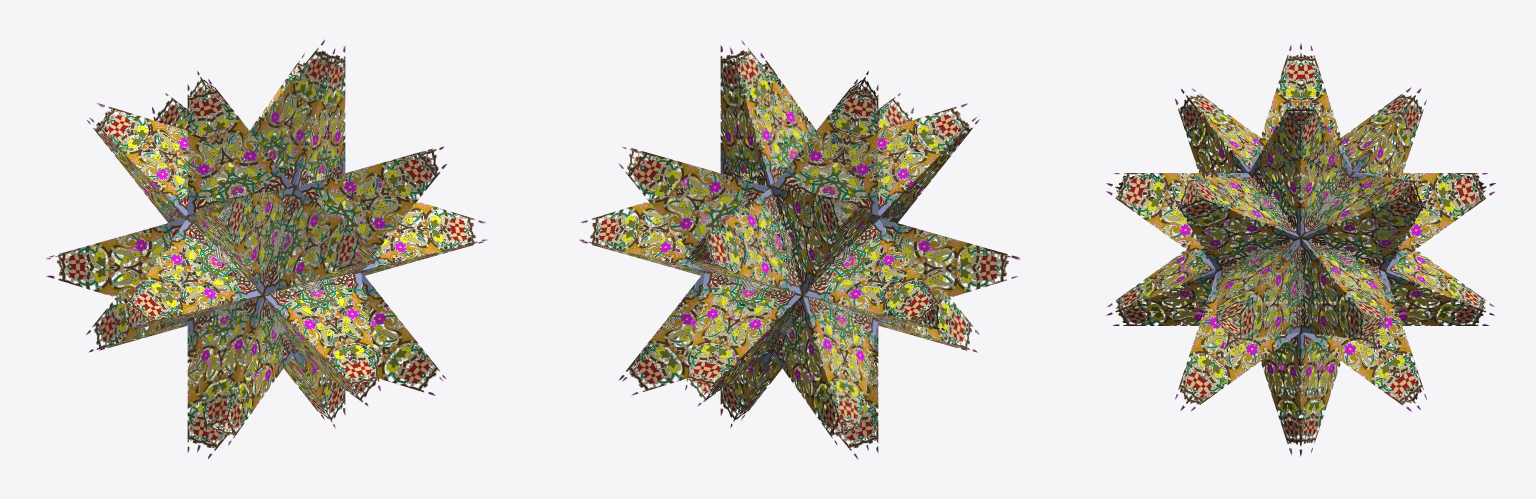
The model's file is GreatStellatedDodecahedron3.obj.
The picture shows the model from 3 angles, left to right: view 1: azimuth 30°, elevation 25°; view 2: azimuth 150°, elevation 25°; view 3: azimuth 270°, elevation 25°; orthographic projection. The views are drawn at different scales.
Bounding box in the file's own units: 1 × 1 × 1.
1 material, 1 textured.
